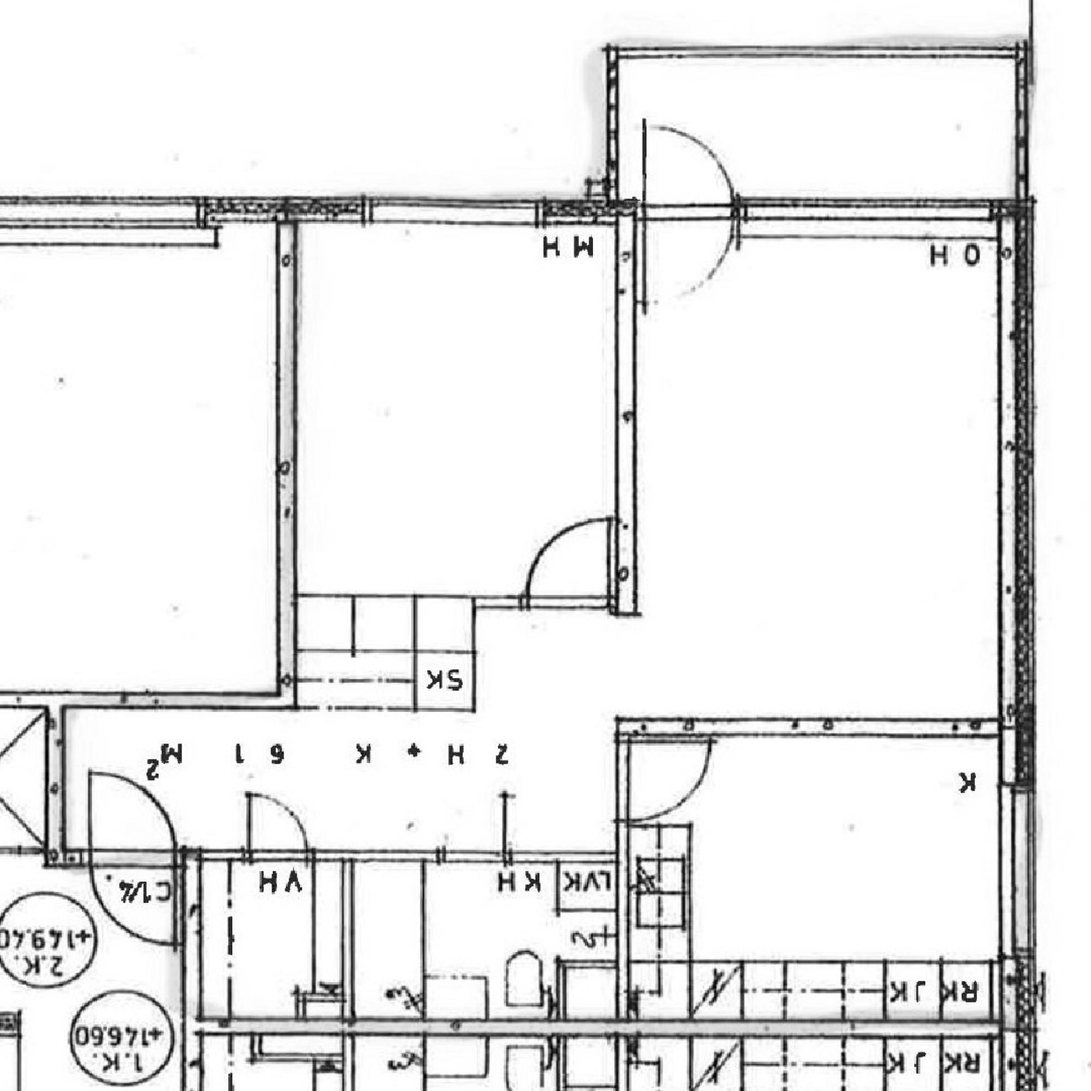wall: (1000, 200, 1033, 1036), (183, 1019, 1033, 1036), (277, 200, 296, 708), (277, 200, 635, 223), (617, 718, 1033, 737), (617, 200, 636, 615), (635, 200, 1033, 219), (558, 962, 629, 1036), (201, 849, 629, 861), (47, 693, 297, 708), (183, 849, 202, 1036), (47, 693, 65, 866), (617, 718, 629, 961), (47, 849, 201, 866), (296, 994, 352, 1036), (474, 596, 636, 608), (607, 49, 618, 223), (1017, 49, 1028, 220), (342, 849, 353, 994)
